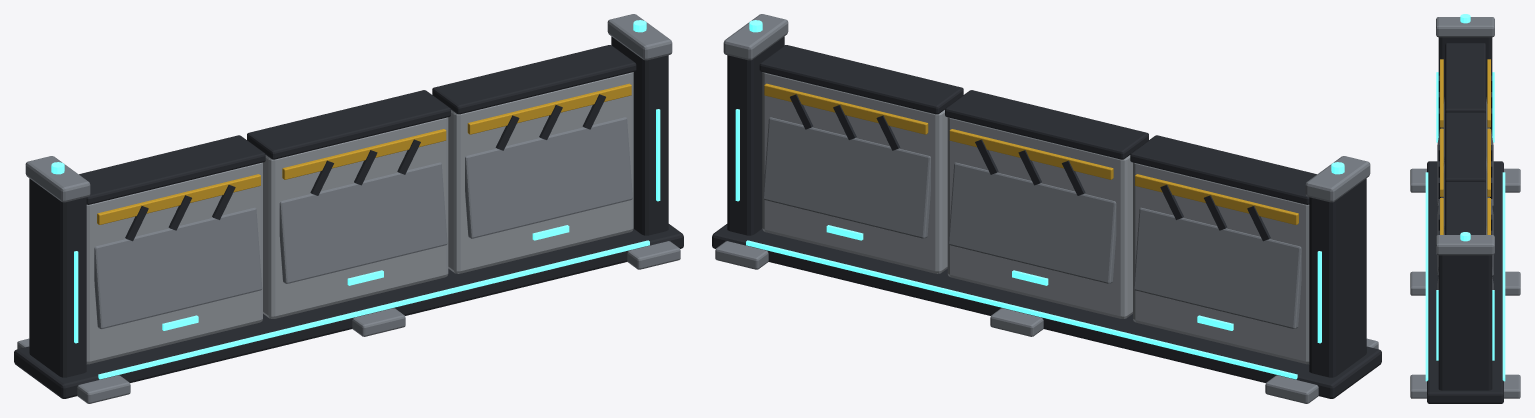
Rendered from td_barricade.glb.
The picture shows the model from 3 angles, left to right: view 1: azimuth 30°, elevation 25°; view 2: azimuth 150°, elevation 25°; view 3: azimuth 270°, elevation 25°; orthographic projection. The views are drawn at different scales.
Visible parts, largest first — view 1: BarPanel2, BarPanel1, BarPanel0, BarBase, BarPost.L, BarPost.R; view 2: BarPanel2, BarPanel1, BarPanel0, BarBase, BarPost.L, BarPost.R; view 3: BarBase, BarPost.R, BarPanel0, BarPanel1, BarPanel2, BarPost.L.
Part boxes in pixels (x1,y1,x2,y2): BarPanel2: [432, 45, 636, 273]; BarPanel1: [247, 90, 450, 318]; BarPanel0: [79, 135, 265, 364]; BarBase: [14, 224, 683, 403]; BarPost.L: [25, 156, 90, 377]; BarPost.R: [607, 14, 672, 235]; BarPanel2: [759, 45, 963, 273]; BarPanel1: [945, 90, 1148, 318]; BarPanel0: [1130, 135, 1316, 364]; BarBase: [712, 224, 1381, 403]; BarPost.L: [1305, 156, 1370, 377]; BarPost.R: [723, 14, 788, 235]; BarBase: [1410, 161, 1520, 403]; BarPost.R: [1436, 232, 1494, 390]; BarPanel0: [1437, 43, 1493, 206]; BarPanel1: [1437, 112, 1493, 275]; BarPanel2: [1437, 182, 1493, 289]; BarPost.L: [1436, 14, 1494, 142].
Bounding box in the file's own units: 4.3 × 1.4 × 0.86.
